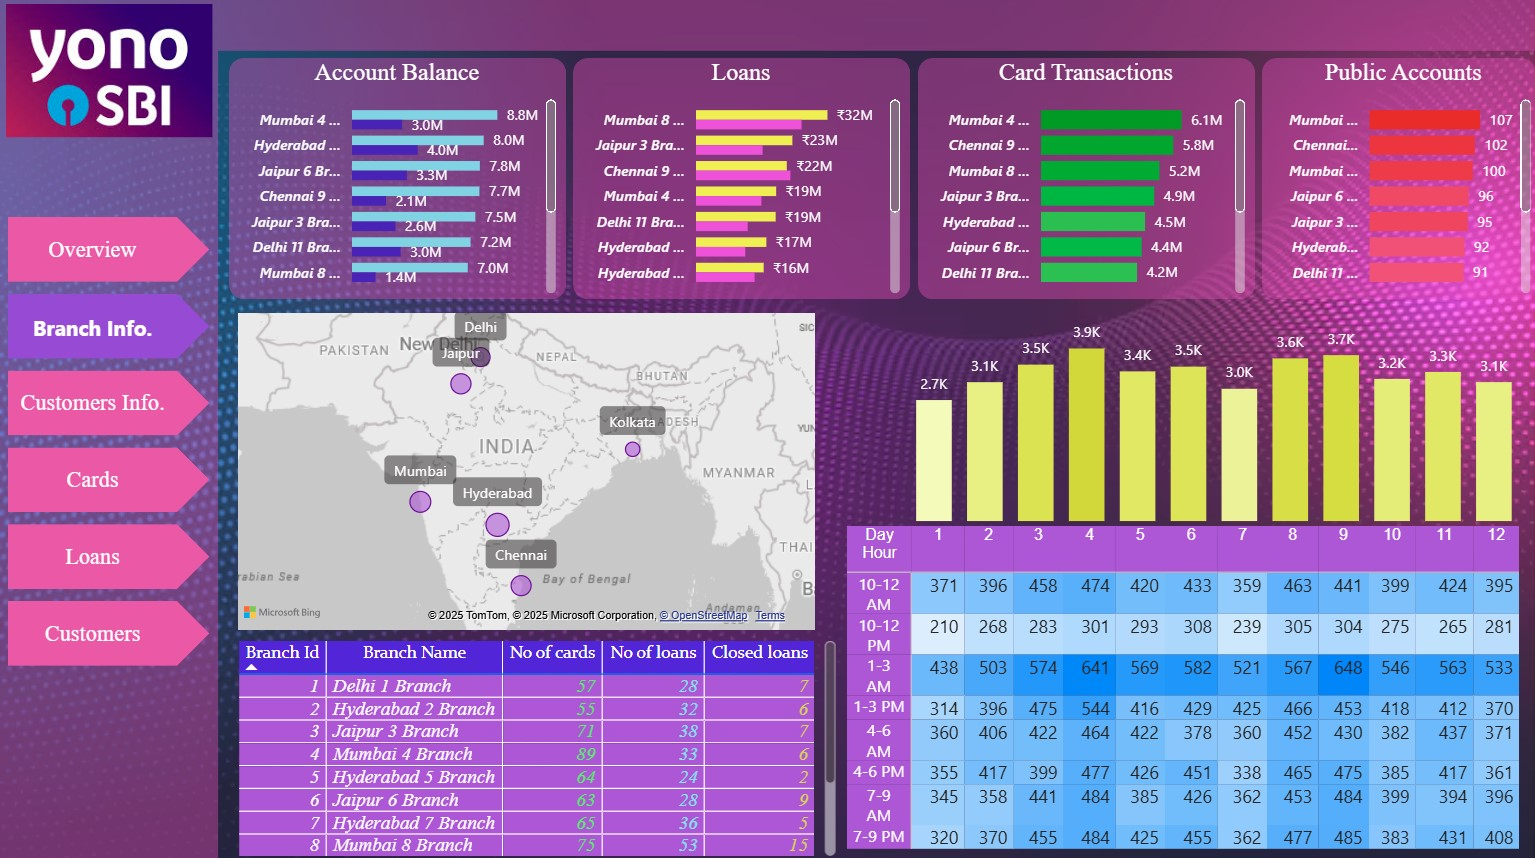

Layout of this report page (visuals, bound fields, positions):
{"tool":"powerbi","page":{"name":"Branch Info.","canvas":[1280,720],"ordinal":1},"visuals":[{"type":"shape","box":[0,0,181.8,720],"z":0},{"type":"shape","box":[190.5,50,281,201.1],"z":1000},{"type":"clusteredBarChart","title":"Account Balance","fields":{"Category":["public branches.branch_name"],"Y":["Sum(account balance.public accounts.balance)","Sum(account balance.net balance)"]},"box":[193.2,50,274.8,201.1],"z":2000},{"type":"shape","box":[477.7,50,281,201.1],"z":3000},{"type":"shape","box":[764.8,50,281,201.1],"z":4000},{"type":"shape","box":[1051.9,50,228.3,201.1],"z":5000},{"type":"clusteredBarChart","title":"Loans","fields":{"Category":["public branches.branch_name"],"Y":["Sum(public loans.principal)","Sum(public loans.Interest amount)"]},"box":[480.3,50,274.8,201.1],"z":6000},{"type":"clusteredBarChart","title":"Card Transactions","fields":{"Category":["public branches.branch_name"],"Y":["Sum(public card_transactions.amount)"]},"box":[767.4,50,274.8,201.1],"z":7000},{"type":"clusteredBarChart","title":"Public Accounts","fields":{"Category":["public branches.branch_name"],"Y":["public accounts.No of accounts"]},"box":[1058,50,222.1,201.1],"z":8000},{"type":"tableEx","fields":{"Values":["public branches.branch_id","public branches.branch_name","public cards.No of cards","public loans.No of loans","public loans.Total closed loans"]},"box":[193.2,531.2,507.5,188.8],"z":9000},{"type":"map","fields":{"Category":["public branches.city"],"Size":["public accounts.No of accounts"]},"box":[193.2,257.3,490.8,274],"z":10000},{"type":"pivotTable","fields":{"Columns":["public branches.branch_id"],"Rows":["public transactions.day hour"],"Values":["CountNonNull(public transactions.transaction_id)"]},"box":[700.7,434.6,579.5,285.4],"z":11000},{"type":"clusteredColumnChart","title":"Transactions made by Year","fields":{"Category":["public branches.branch_id"],"Y":["CountNonNull(public transactions.account_id)"]},"box":[758.6,257.3,514.5,184.4],"z":12000},{"type":"image","box":[0,0,181.6,120.7],"z":13000},{"type":"pageNavigator","box":[6.4,182.5,168.9,378.6],"z":14000},{"type":"shape","box":[181.6,0,1098.4,44.5],"z":15000}]}

Visuals, with their boxes in screenshot pixels (x1, y1, x2, y2), scaled from the page's 1280x720 canvas onto the 1535x858 screenshot:
shape: rect(0, 0, 218, 857)
shape: rect(228, 60, 565, 299)
"Account Balance" clusteredBarChart: rect(232, 60, 561, 299)
shape: rect(573, 60, 910, 299)
shape: rect(917, 60, 1254, 299)
shape: rect(1261, 60, 1534, 299)
"Loans" clusteredBarChart: rect(576, 60, 906, 299)
"Card Transactions" clusteredBarChart: rect(920, 60, 1250, 299)
"Public Accounts" clusteredBarChart: rect(1269, 60, 1534, 299)
tableEx - public branches.branch_id x public branches.branch_name: rect(232, 633, 840, 857)
map - public branches.city x public accounts.No of accounts: rect(232, 307, 820, 633)
pivotTable - public branches.branch_id x public transactions.day hour: rect(840, 518, 1534, 857)
"Transactions made by Year" clusteredColumnChart: rect(910, 307, 1527, 526)
image: rect(0, 0, 218, 144)
pageNavigator: rect(8, 217, 210, 669)
shape: rect(218, 0, 1534, 53)
